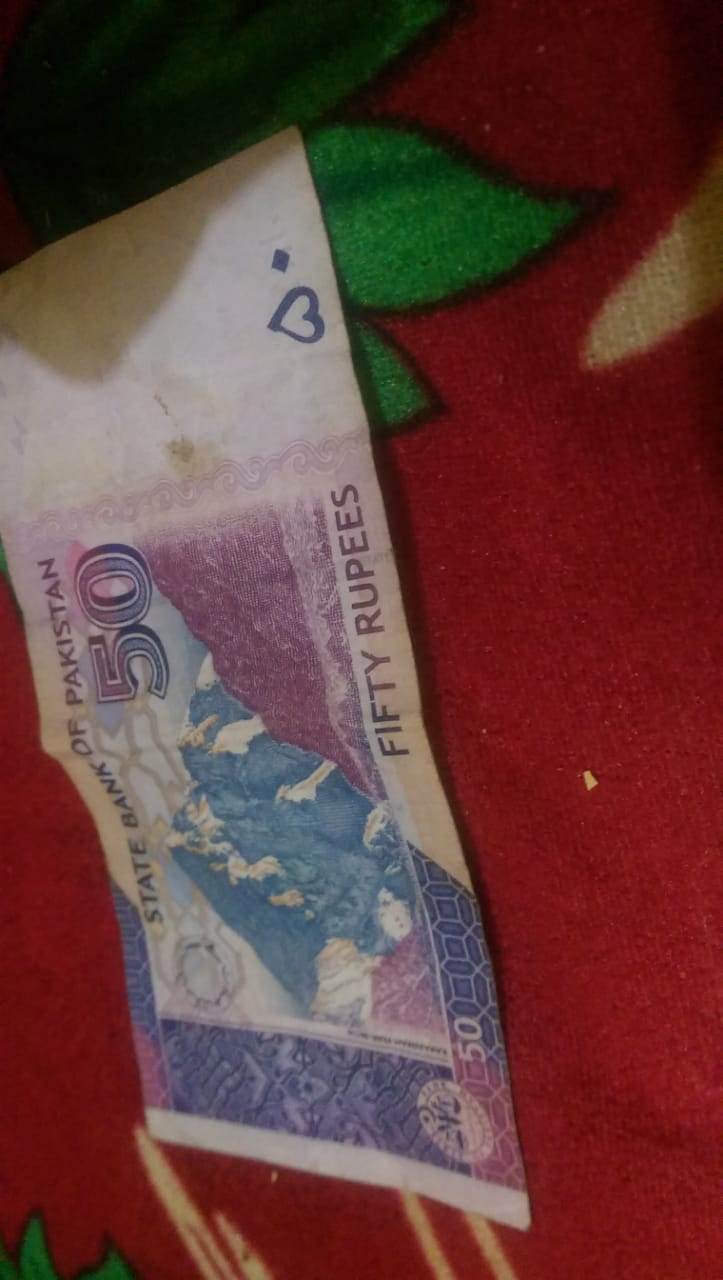50 rupee: (7, 142, 539, 1266)
